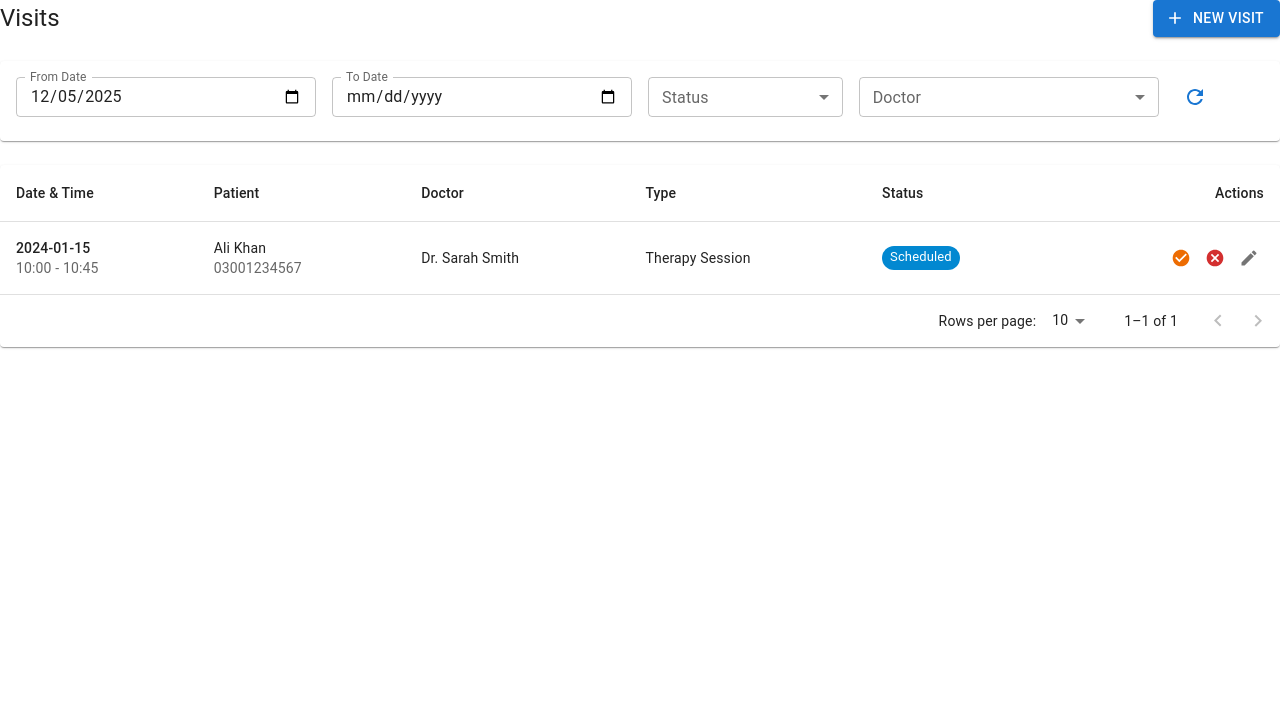
Test: Visit Workflow Integration Tests › Edit Visit Flow › should open edit dialog when clicking edit button
Expected: the text "Ali Khan" is shown, [214,240,266,256]
# Click edit button
Click the button named "edit": (1249, 258) [1234,242,1264,272]
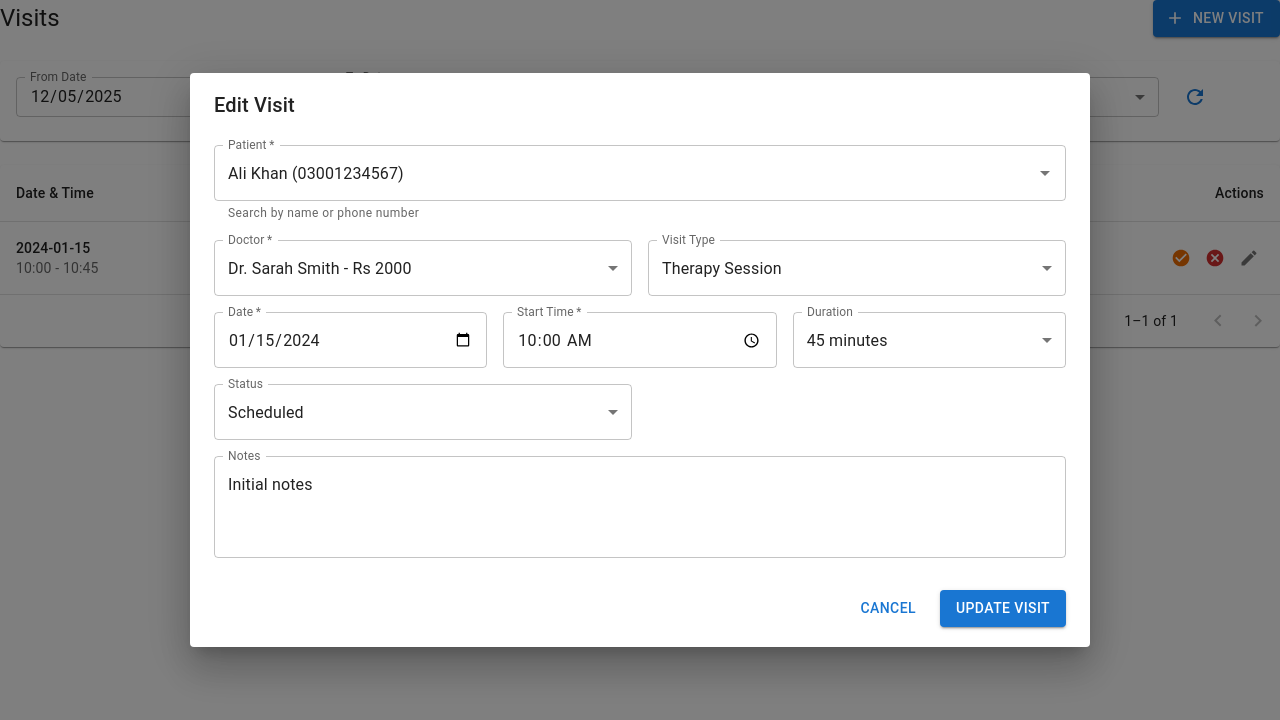
Expected: the heading "Edit Visit" is shown, [214,93,295,117]
